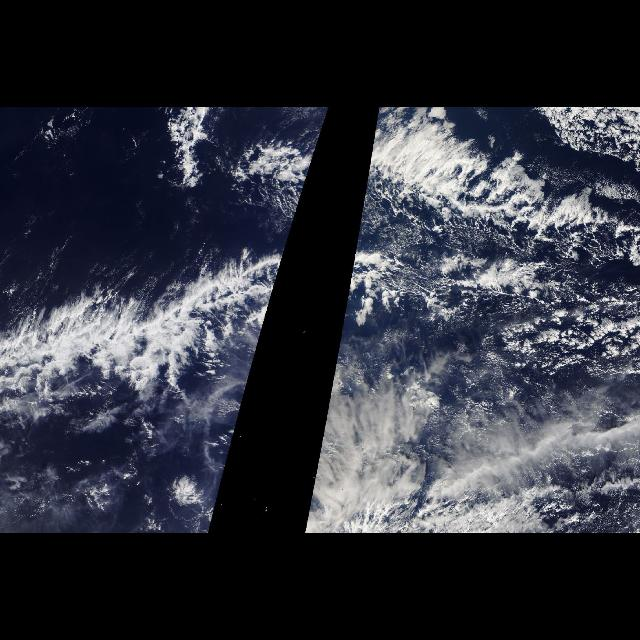Fish: (1, 108, 332, 410), (327, 108, 639, 410)
Gravel: (382, 176, 634, 370)
